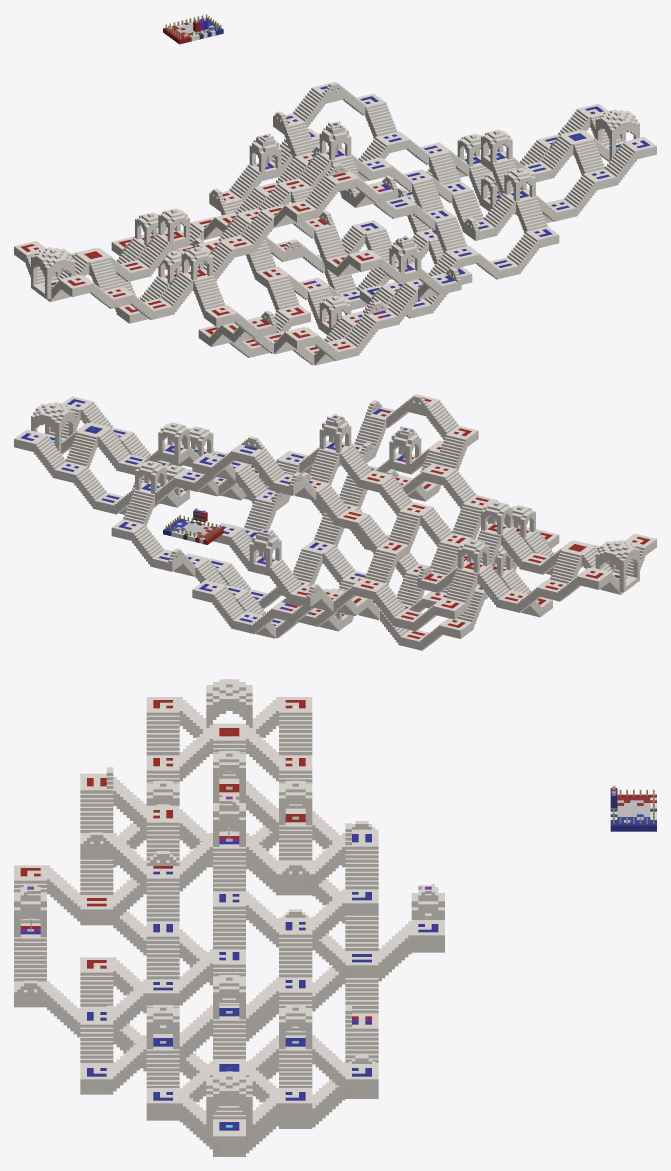
File: minecraft.obj
3 renders of one model, top to bottom at view 1: azimuth 30°, elevation 25°; view 2: azimuth 150°, elevation 25°; view 3: azimuth 270°, elevation 25°, orthographic. The views are drawn at different scales.
Bounding box in the file's own units: 147 × 50.5 × 97.
